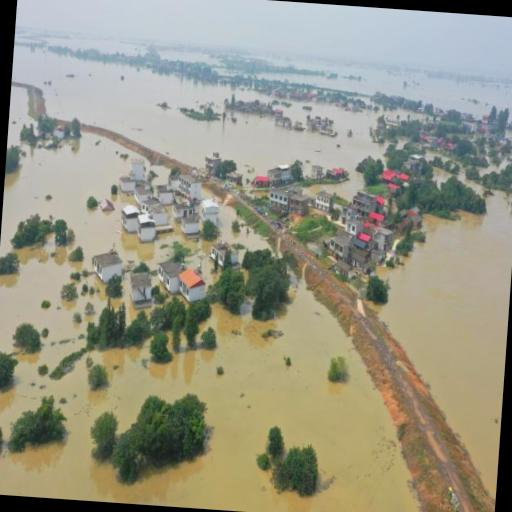flood: (0, 133, 421, 512), (12, 44, 385, 199), (373, 192, 512, 502), (379, 194, 512, 500), (249, 55, 512, 117), (14, 30, 147, 55), (218, 206, 268, 249), (153, 45, 222, 67), (202, 188, 225, 205)
house: (92, 248, 124, 285), (350, 189, 388, 219), (176, 266, 206, 303), (128, 268, 154, 310), (266, 159, 296, 188), (156, 258, 180, 290), (132, 214, 158, 242), (150, 160, 174, 188), (328, 233, 350, 260), (149, 206, 173, 230), (266, 188, 292, 210), (210, 242, 236, 264), (129, 155, 149, 181), (172, 201, 196, 222), (177, 174, 197, 199), (122, 207, 142, 230), (180, 215, 198, 237), (315, 190, 333, 212), (204, 150, 220, 174), (133, 186, 150, 204), (354, 233, 370, 250), (156, 190, 173, 204), (325, 166, 343, 179), (310, 165, 322, 180)
